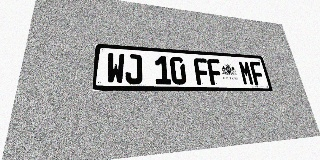0: (169, 56, 187, 85)
1: (154, 55, 171, 84)
F: (193, 58, 211, 85), (207, 59, 224, 85), (249, 61, 266, 85)
J: (125, 54, 143, 84)
M: (238, 60, 255, 85)
W: (106, 53, 125, 84)
